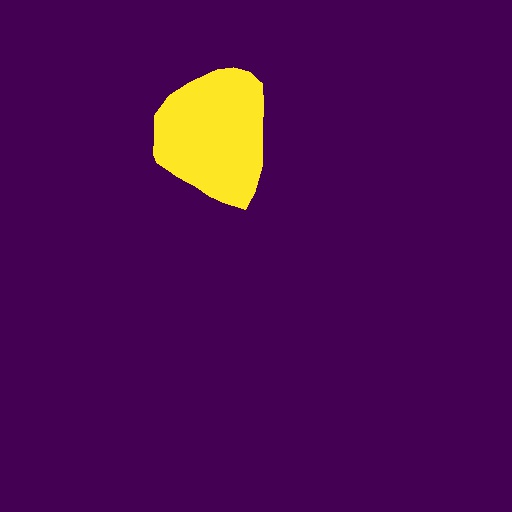Gliomia_tumour: (153, 67, 264, 210)
